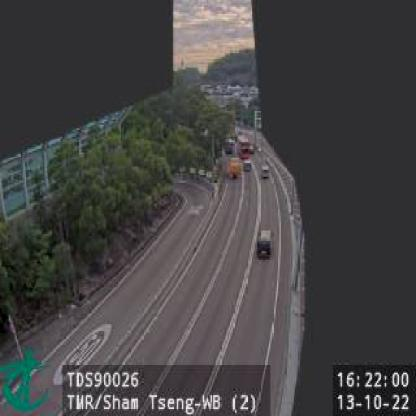Car: (258, 229, 273, 260), (229, 160, 240, 180), (260, 164, 270, 178), (244, 162, 252, 172)
